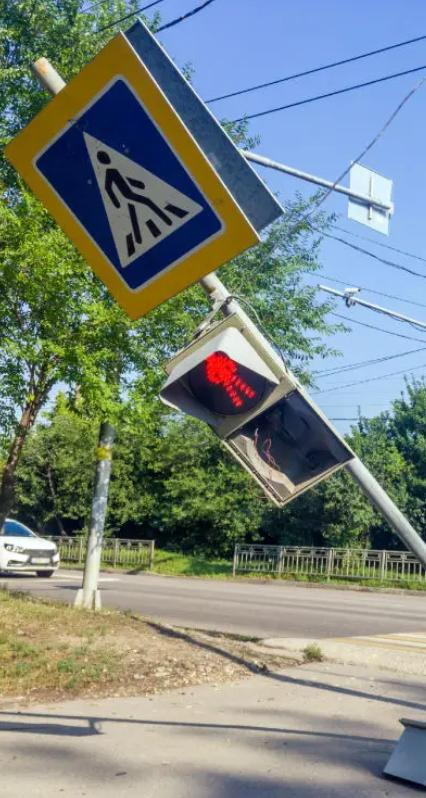off traffic light: (156, 312, 359, 508)
road_sign: (1, 29, 262, 322)
